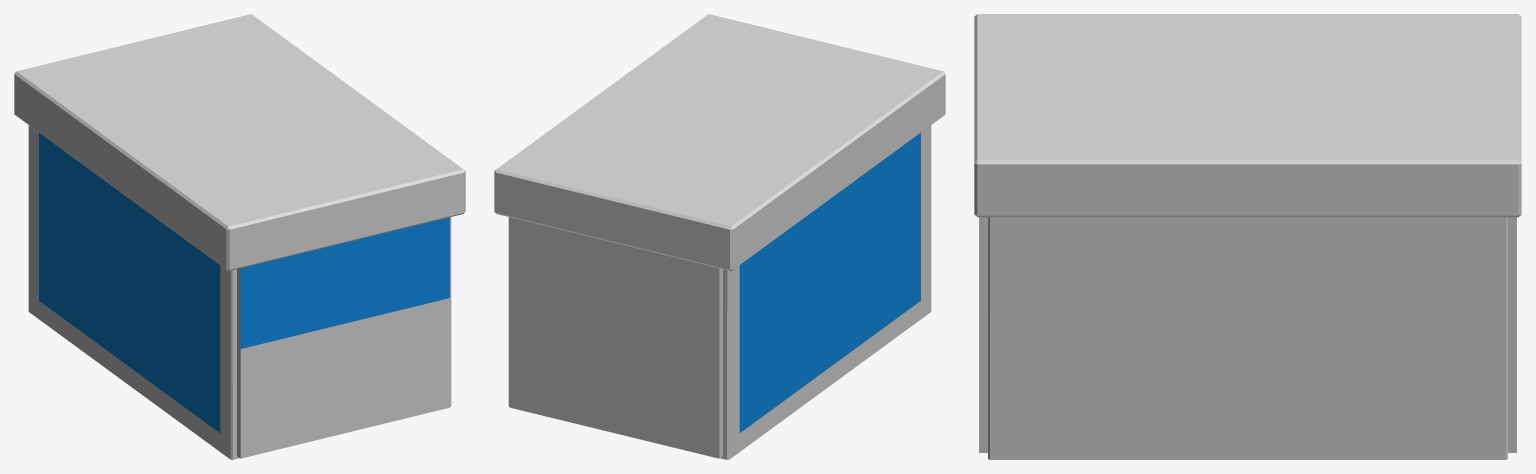
The picture shows the model from 3 angles, left to right: view 1: azimuth 30°, elevation 25°; view 2: azimuth 150°, elevation 25°; view 3: azimuth 270°, elevation 25°; orthographic projection. The views are drawn at different scales.
Parts seen in each view (by area): view 1: SM_FilingBox; view 2: SM_FilingBox; view 3: SM_FilingBox.
Part boxes in pixels (x1,y1,x2,y2): SM_FilingBox: (14, 14, 465, 459); SM_FilingBox: (494, 14, 945, 459); SM_FilingBox: (974, 14, 1521, 459).
Size of the model in its own units: 5418 by 5163 by 8421.
